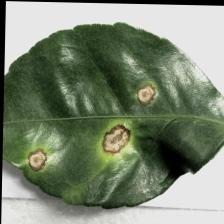canker: (10, 67, 179, 185)
